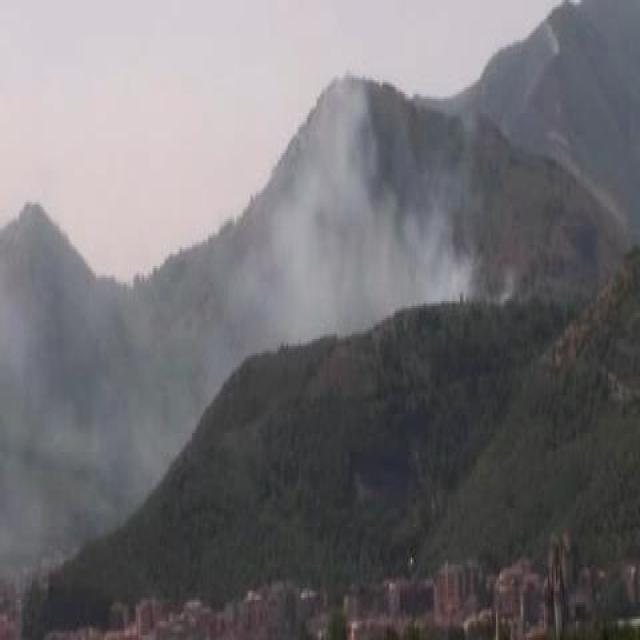Smoke: (276, 90, 460, 310)
